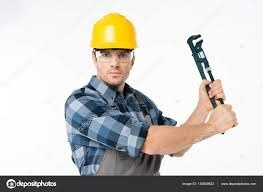helmet: (88, 9, 142, 53)
person with partial safety: (69, 11, 178, 173)
